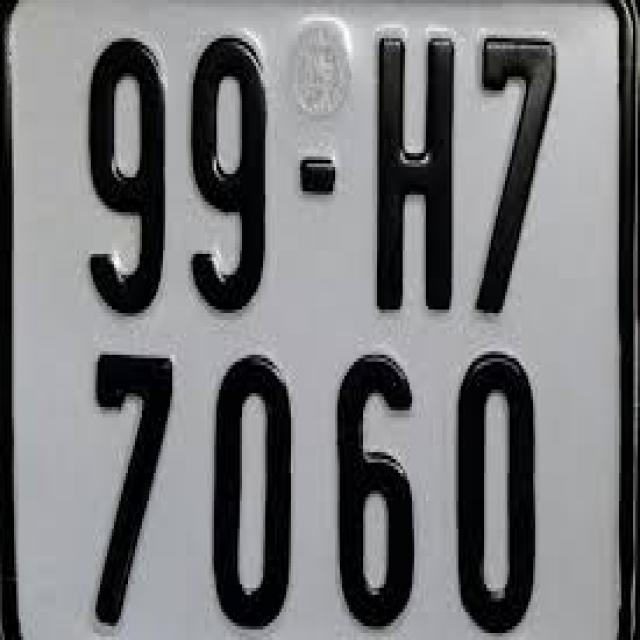bien_so: (6, 2, 633, 637)
